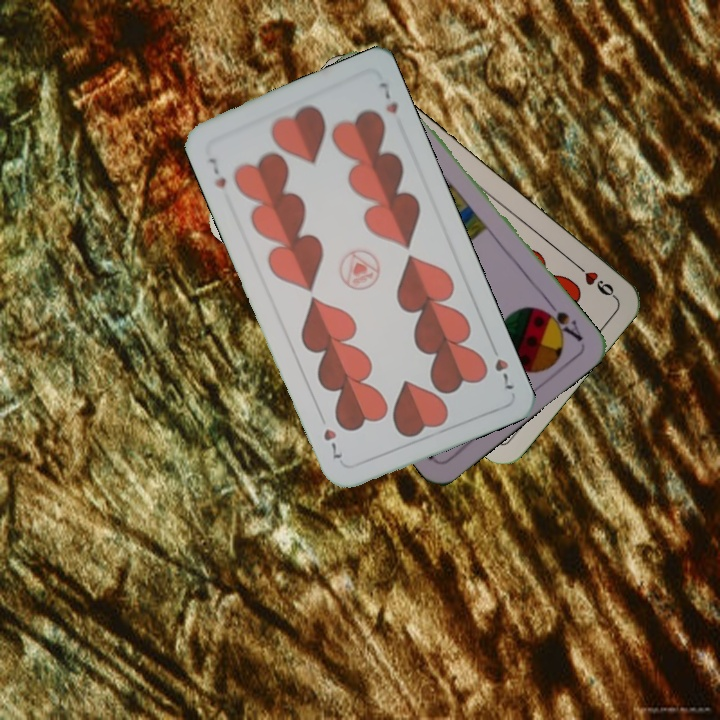H7: (490, 354, 517, 393), (204, 153, 229, 191)
H9: (569, 258, 618, 301)
SA: (536, 295, 586, 345)
